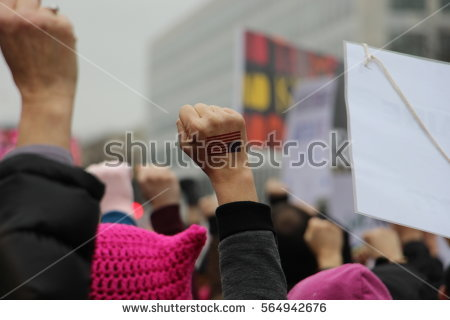fist: (1, 1, 90, 87), (177, 102, 255, 166)
